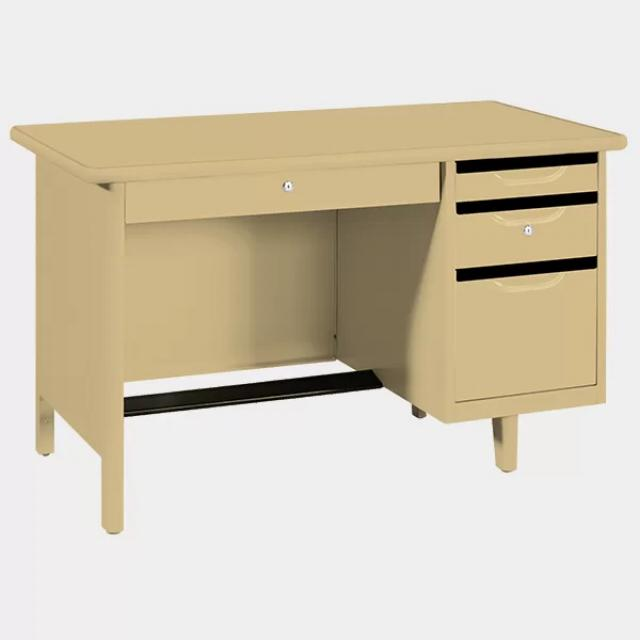table: (8, 92, 632, 535)
